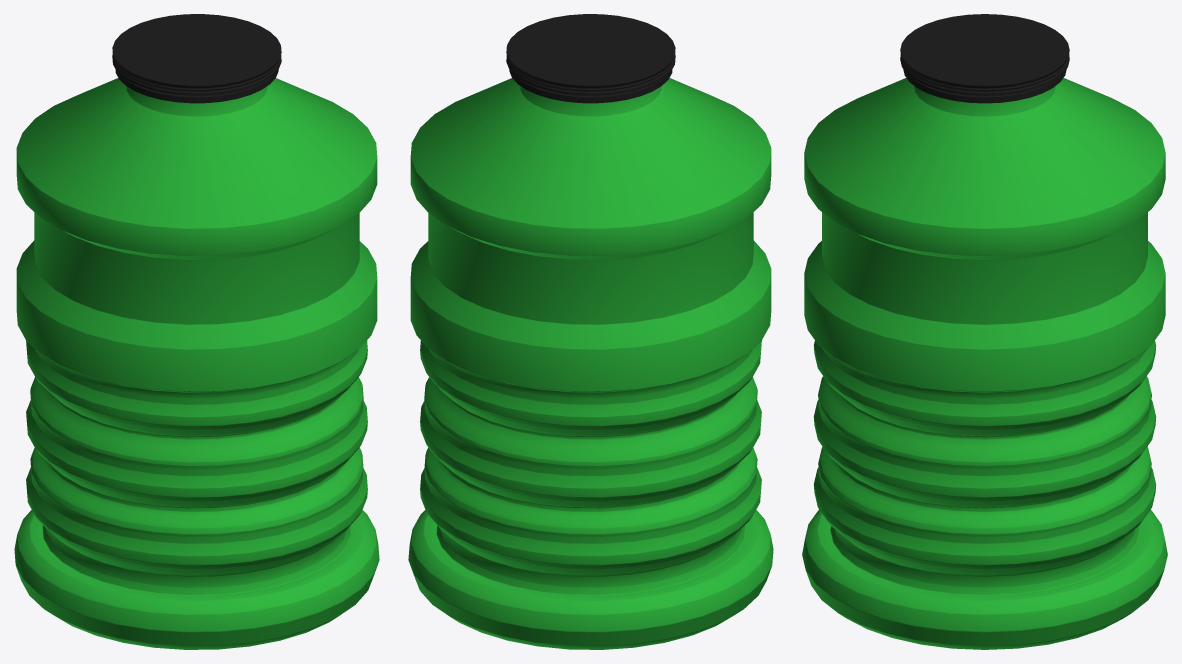
Rendered from bottle2.glb.
3 renders of one model, left to right at view 1: azimuth 30°, elevation 25°; view 2: azimuth 150°, elevation 25°; view 3: azimuth 270°, elevation 25°, orthographic.
Visible parts, largest first — view 1: Bottle2; view 2: Bottle2; view 3: Bottle2.
Part boxes in pixels (bbox=[...]): Bottle2: bbox=[14, 14, 379, 649]; Bottle2: bbox=[408, 14, 773, 649]; Bottle2: bbox=[802, 14, 1167, 649].
Bounding box in the file's own units: 0.1239 × 0.1985 × 0.1239.
